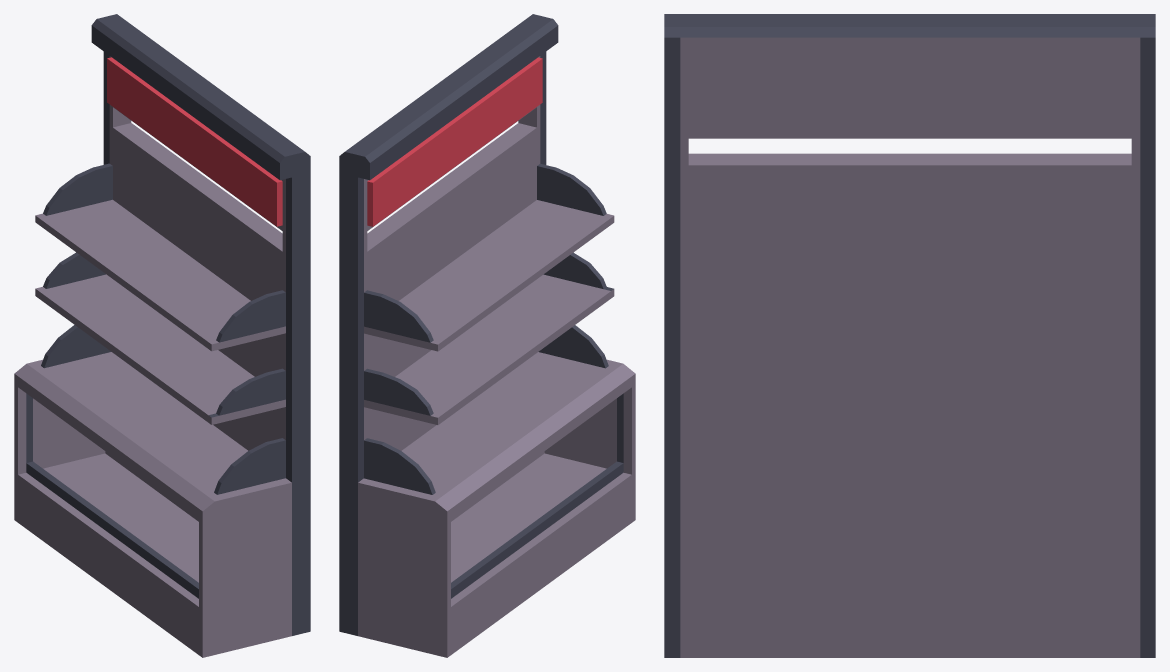
Rendered from SHELF regular.fbx.
3 renders of one model, left to right at view 1: azimuth 30°, elevation 25°; view 2: azimuth 150°, elevation 25°; view 3: azimuth 270°, elevation 25°, orthographic. The views are drawn at different scales.
Visible parts, largest first — view 1: reg shelf; view 2: reg shelf; view 3: reg shelf.
Part boxes in pixels (x1,y1,x2,y2): reg shelf: (14,14,310,657); reg shelf: (339,14,635,657); reg shelf: (664,14,1155,657).
Size of the model in its own units: 2 by 6.04 by 8.52.
